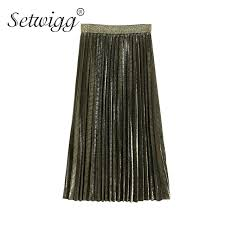C_skirt: (59, 18, 176, 206)
